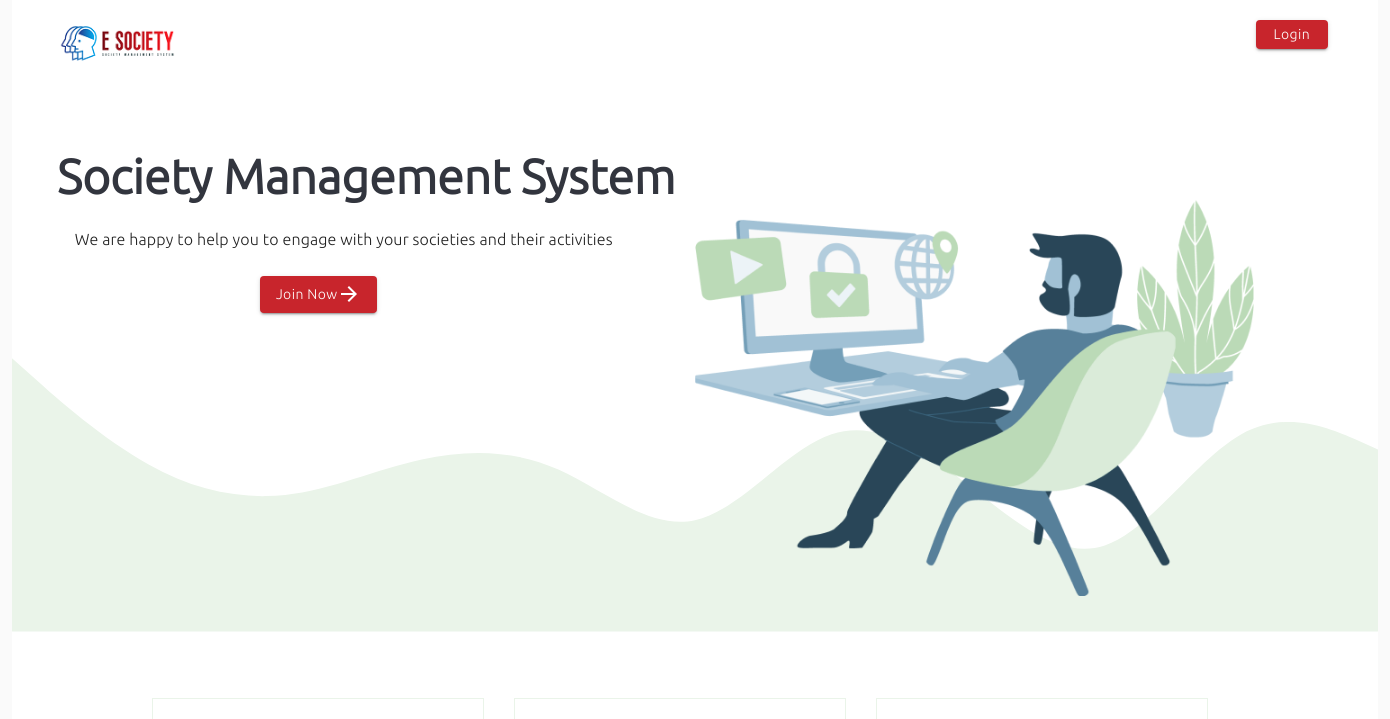
Test: should navigate to the login page
Step 1. Click the link with test id "login-link" → (1292, 34), box [1256,20,1328,48]
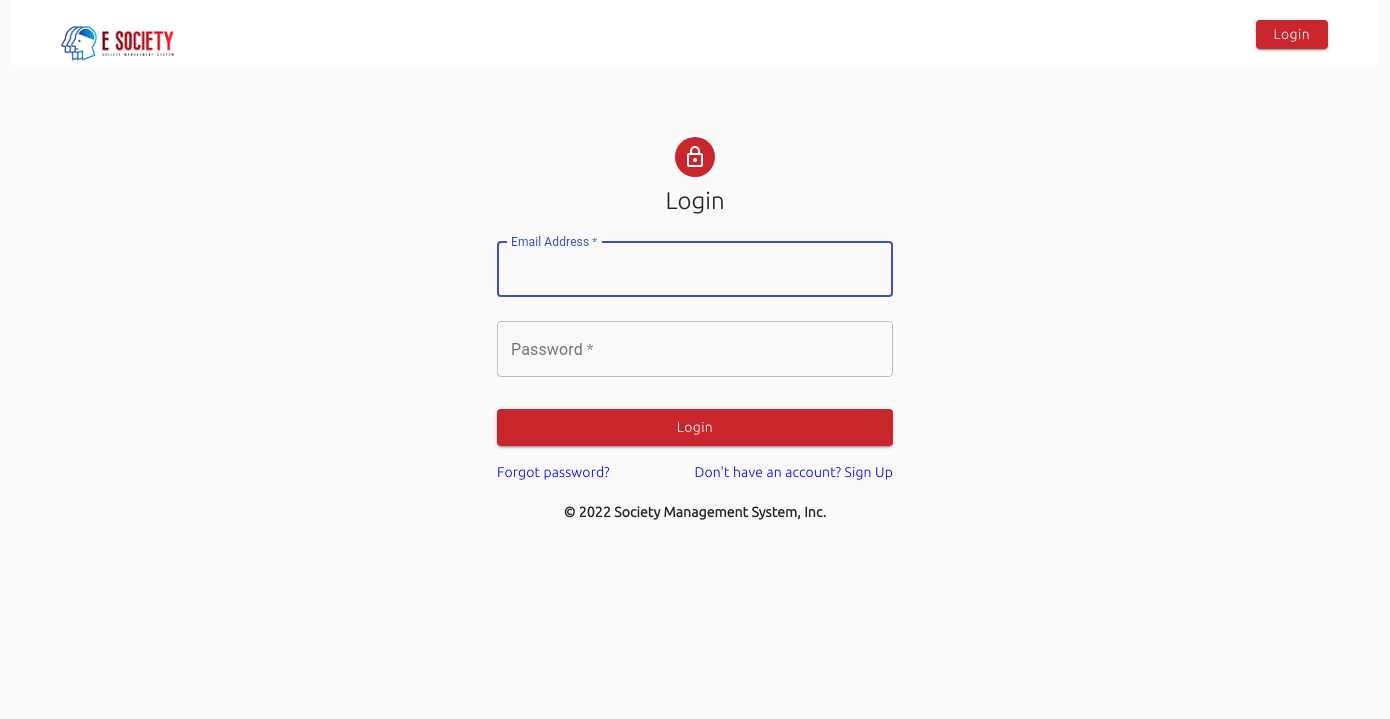
Now the heading with test id "login-title" reads "Login", box [665,187,724,214]
